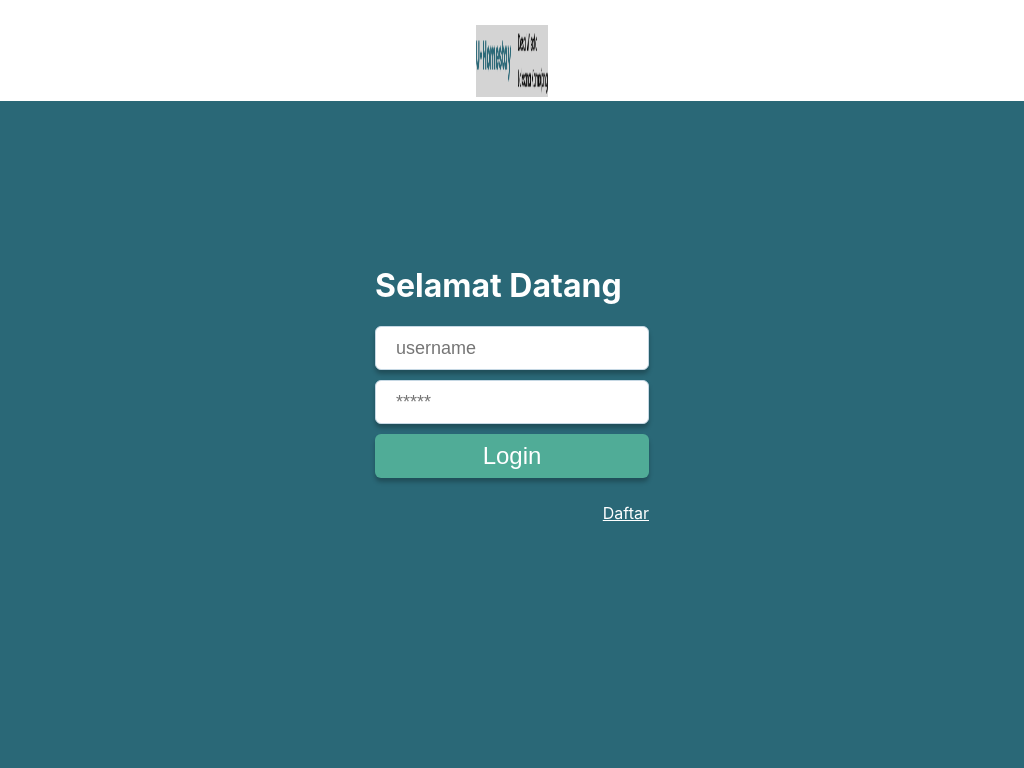
Test: Member fail login without credentials
The width and height of the screenshot is (1024, 768).
Click the button "Login" at (512, 456), box [375,434,649,478]
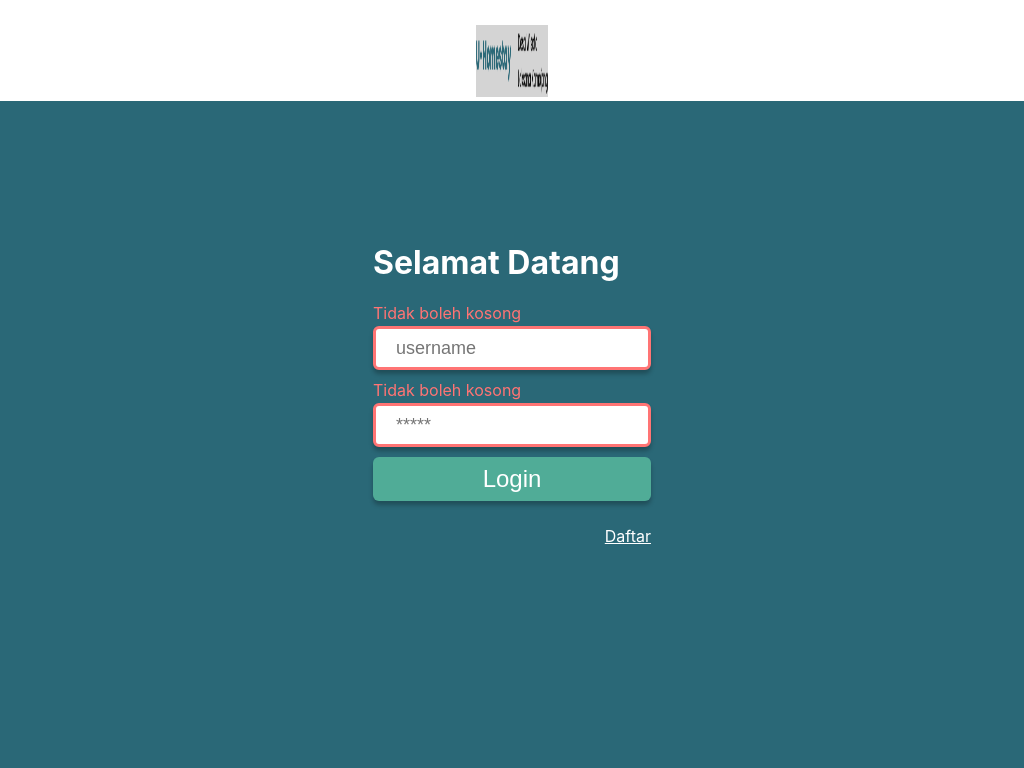
Expected: the 1st text "Tidak boleh kosong" is shown, [373,303,521,323]
Expected: the 2nd text "Tidak boleh kosong" is shown, [373,380,521,400]
